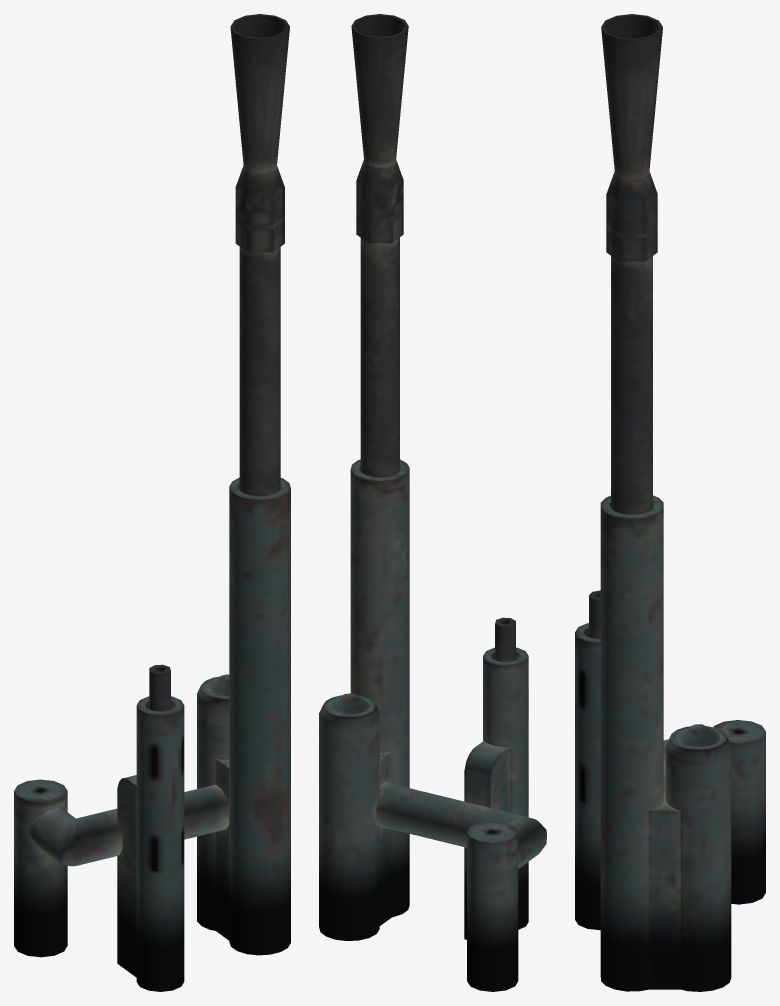
Rendered from Gun_01.glb.
3 renders of one model, left to right at view 1: azimuth 30°, elevation 25°; view 2: azimuth 150°, elevation 25°; view 3: azimuth 270°, elevation 25°, orthographic. The views are drawn at different scales.
Visible parts, largest first — view 1: set_0_group_0; view 2: set_0_group_0; view 3: set_0_group_0.
Boxes of the visible parts, left/top/right/bottom form: set_0_group_0: left=14, top=14, right=290, bottom=991; set_0_group_0: left=319, top=14, right=546, bottom=991; set_0_group_0: left=575, top=14, right=765, bottom=991.
Size of the model in its own units: 0.3258 by 1.3 by 0.2372.
1 material, 1 textured.
